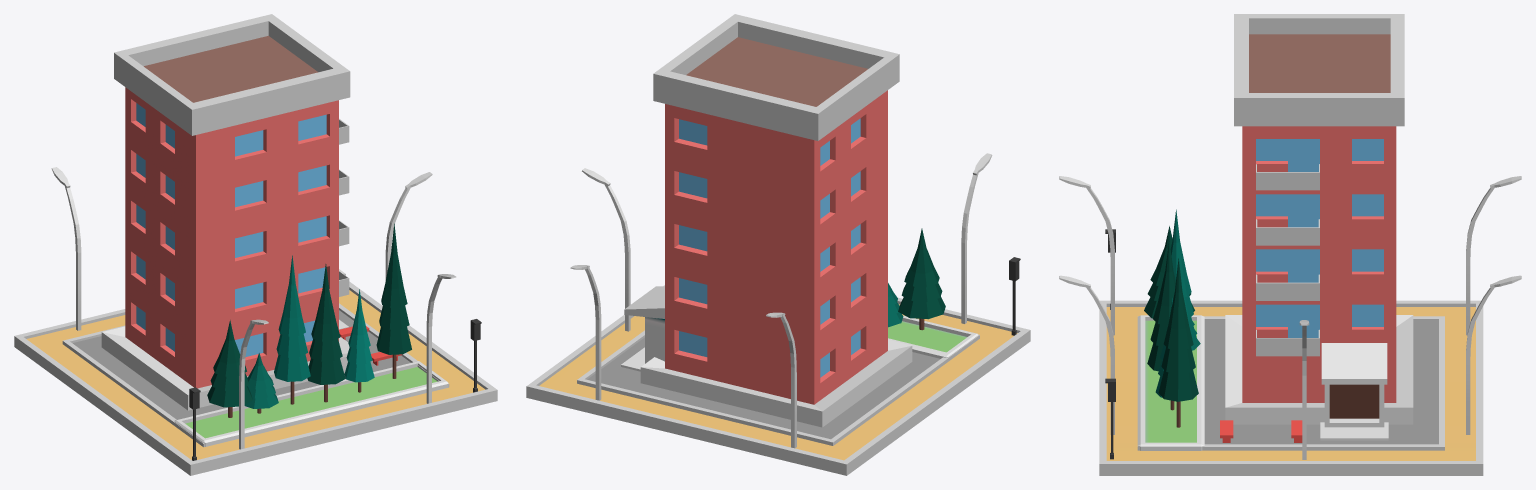
The model's file is building_d.obj.
The picture shows the model from 3 angles, left to right: view 1: azimuth 30°, elevation 25°; view 2: azimuth 150°, elevation 25°; view 3: azimuth 270°, elevation 25°; orthographic projection. The views are drawn at different scales.
Parts seen in each view (by area): view 1: House_1, Floor_1, Cube.7, Floor.4_1, Firtree.4, Firtree.2, Firtree.1, Firtree.47, Firtree, Firtree.3, Light.2_1, Light_1 (+2 smaller); view 2: House_1, Floor_1, Floor.4_1, Firtree.47, Cube.7, Light_1, Light.5, Light.3_1, Light.2_1; view 3: House_1, Floor_1, Floor.4_1, Cube.7, Firtree.4, Firtree.1, Firtree.2, Light.3_1, Light_1, Light.2_1, Firtree.47, Light.1_1 (+1 smaller).
Boxes of the visible parts, <box> form: House_1: <box>101,14,350,410</box>; Floor_1: <box>14,281,497,475</box>; Cube.7: <box>174,361,448,446</box>; Floor.4_1: <box>62,303,449,447</box>; Firtree.4: <box>376,223,411,378</box>; Firtree.2: <box>274,255,310,404</box>; Firtree.1: <box>307,264,345,402</box>; Firtree.47: <box>207,320,252,417</box>; Firtree: <box>344,289,374,392</box>; Firtree.3: <box>244,353,278,413</box>; Light.2_1: <box>51,167,81,330</box>; Light_1: <box>239,319,268,449</box>; House_1: <box>621,14,912,427</box>; Floor_1: <box>526,285,1030,475</box>; Floor.4_1: <box>577,330,979,445</box>; Firtree.47: <box>898,228,945,330</box>; Cube.7: <box>888,315,978,358</box>; Light_1: <box>961,153,992,323</box>; Light.5: <box>582,168,630,331</box>; Light.3_1: <box>570,265,601,400</box>; Light.2_1: <box>766,312,796,448</box>; House_1: <box>1225,14,1413,440</box>; Floor_1: <box>1099,300,1483,475</box>; Floor.4_1: <box>1137,316,1444,450</box>; Cube.7: <box>1137,315,1204,450</box>; Firtree.4: <box>1158,258,1198,427</box>; Firtree.1: <box>1147,240,1175,371</box>; Firtree.2: <box>1170,209,1196,342</box>; Light.3_1: <box>1466,275,1521,434</box>; Light_1: <box>1059,176,1114,335</box>; Light.2_1: <box>1466,176,1521,335</box>; Firtree.47: <box>1144,226,1194,318</box>; Light.1_1: <box>1059,275,1114,434</box>.
Size of the model in its own units: 17.34 by 15.6 by 19.04.
1 material, 1 textured.
